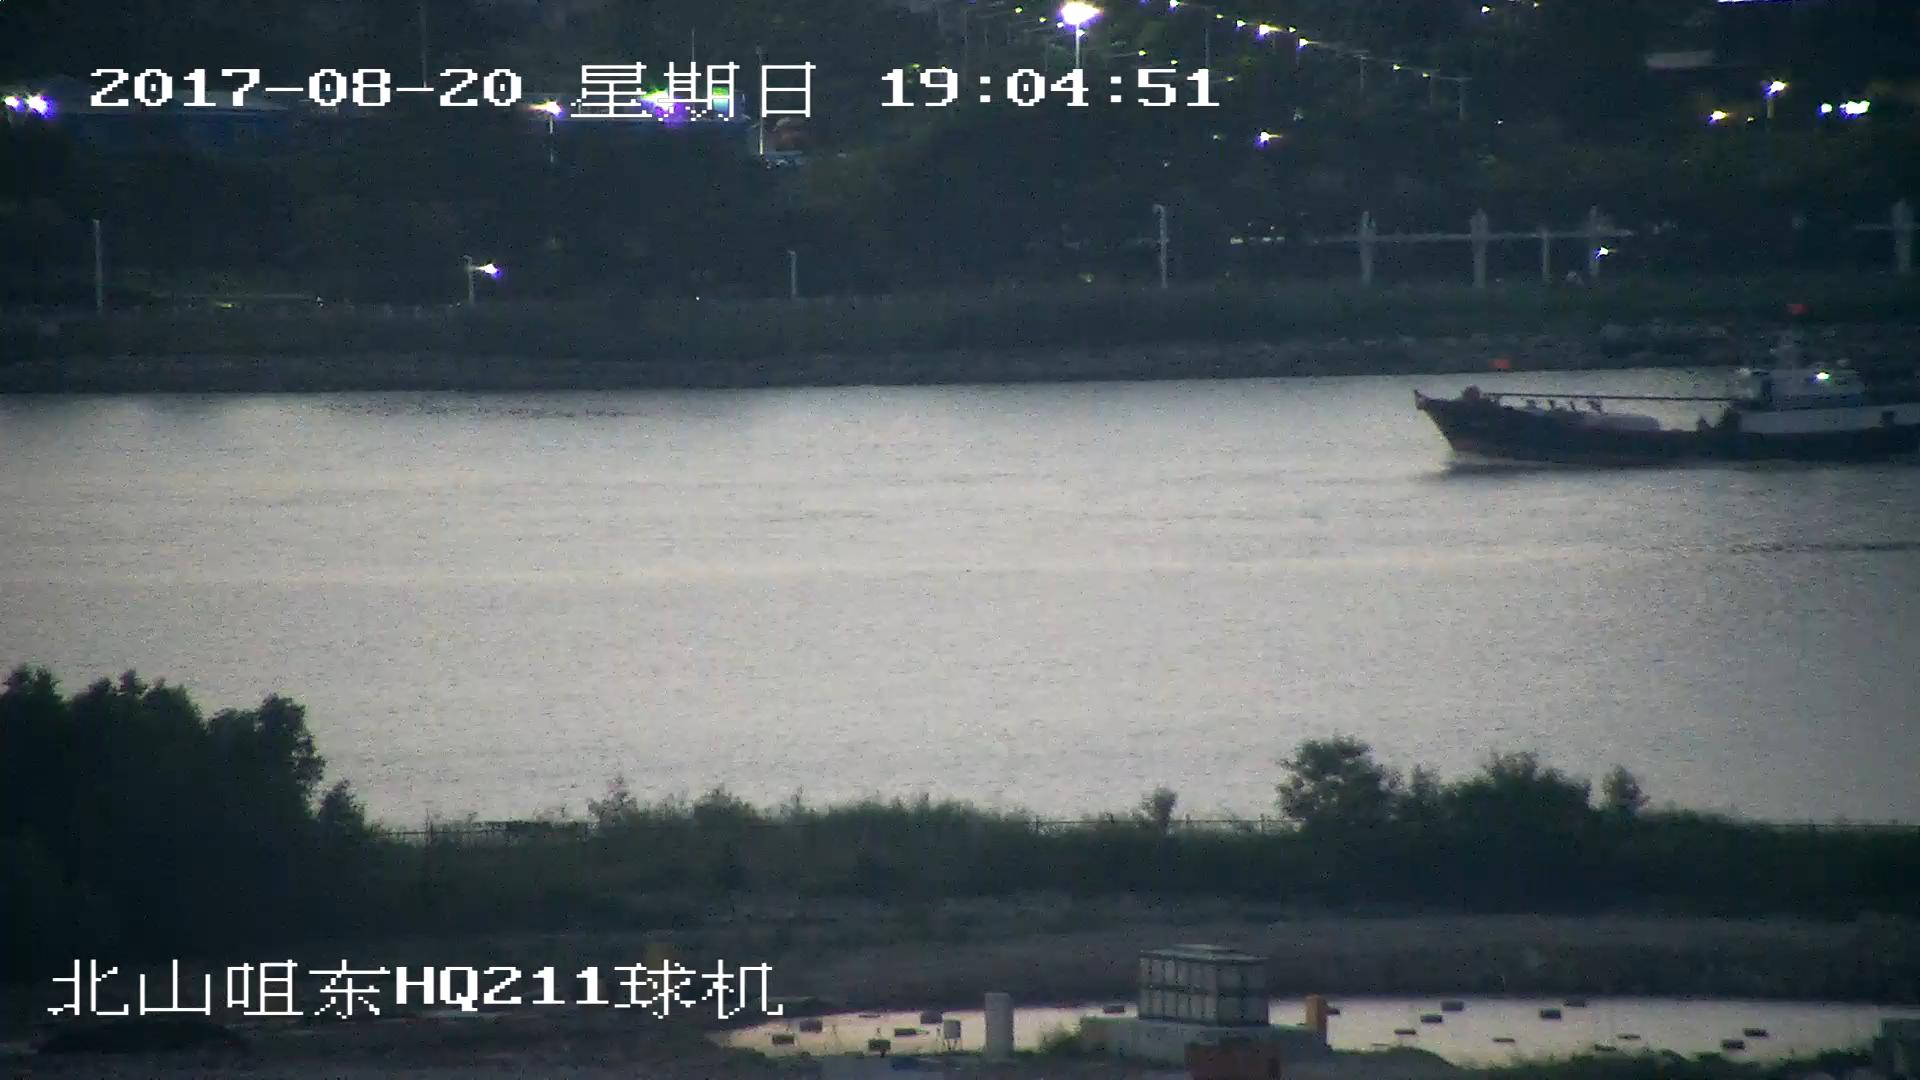fishing boat: (1420, 351, 1920, 465)
